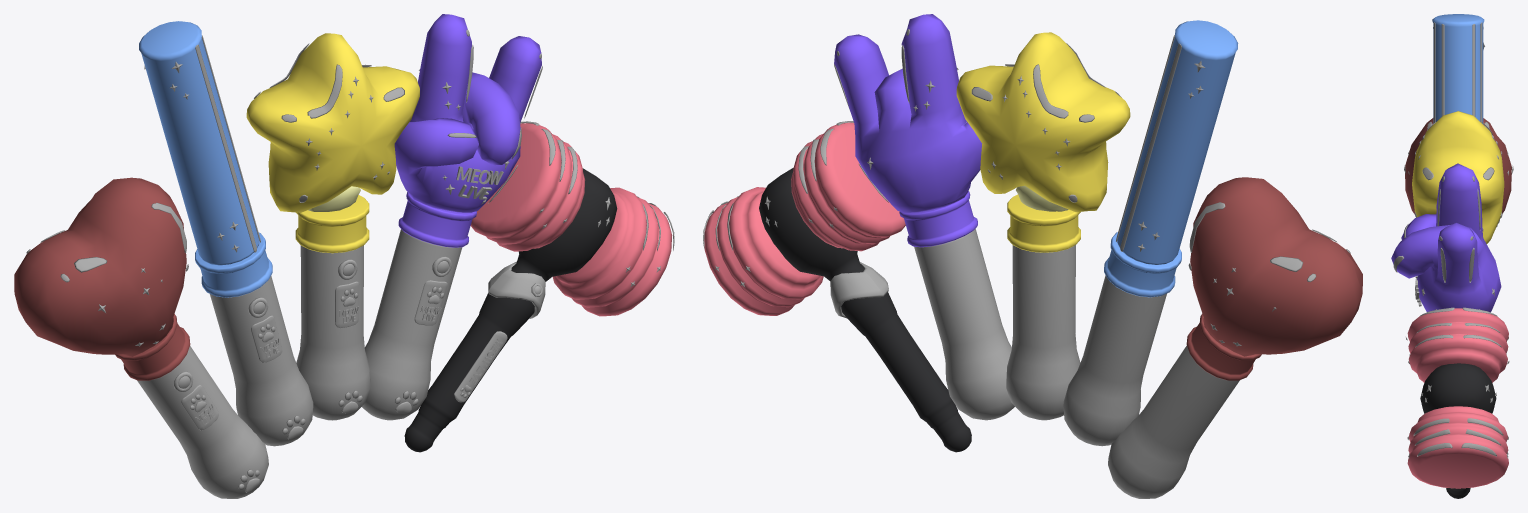
Rendered from LightSticks.fbx.
3 renders of one model, left to right at view 1: azimuth 30°, elevation 25°; view 2: azimuth 150°, elevation 25°; view 3: azimuth 270°, elevation 25°, orthographic. The views are drawn at different scales.
Visible parts, largest first — view 1: S_LightTick, M_LightTick, D_LightTick_, D_LightTick_241, D_LightTick_14, D_LightTick_13, D_LightTick_6, D_LightTick_23, D_LightTick_11; view 2: S_LightTick, M_LightTick, D_LightTick_30, D_LightTick_239; view 3: S_LightTick, D_LightTick_179, D_LightTick_173, D_LightTick_241, D_LightTick_239, D_LightTick_244, D_LightTick_248, D_LightTick_220, D_LightTick_227, D_LightTick_226, D_LightTick_225.
Boxes of the visible parts, bbox=[...] form: S_LightTick: bbox=[14, 14, 672, 498]; M_LightTick: bbox=[115, 192, 476, 380]; D_LightTick_: bbox=[488, 270, 545, 318]; D_LightTick_241: bbox=[195, 44, 256, 252]; D_LightTick_14: bbox=[454, 331, 507, 402]; D_LightTick_13: bbox=[251, 315, 282, 362]; D_LightTick_6: bbox=[181, 385, 218, 430]; D_LightTick_23: bbox=[414, 280, 447, 325]; D_LightTick_11: bbox=[335, 281, 359, 328]; S_LightTick: bbox=[704, 14, 1362, 498]; M_LightTick: bbox=[899, 191, 1261, 380]; D_LightTick_30: bbox=[830, 272, 883, 318]; D_LightTick_239: bbox=[1120, 43, 1181, 251]; S_LightTick: bbox=[1391, 14, 1511, 498]; D_LightTick_179: bbox=[1472, 24, 1475, 116]; D_LightTick_173: bbox=[1441, 24, 1444, 116]; D_LightTick_241: bbox=[1433, 22, 1435, 122]; D_LightTick_239: bbox=[1480, 22, 1482, 123]; D_LightTick_244: bbox=[1417, 443, 1452, 456]; D_LightTick_248: bbox=[1461, 443, 1496, 456]; D_LightTick_220: bbox=[1467, 418, 1503, 435]; D_LightTick_227: bbox=[1413, 418, 1449, 435]; D_LightTick_226: bbox=[1415, 429, 1450, 445]; D_LightTick_225: bbox=[1465, 429, 1501, 445].
Bounding box in the file's own units: 1016 × 728 × 209.
